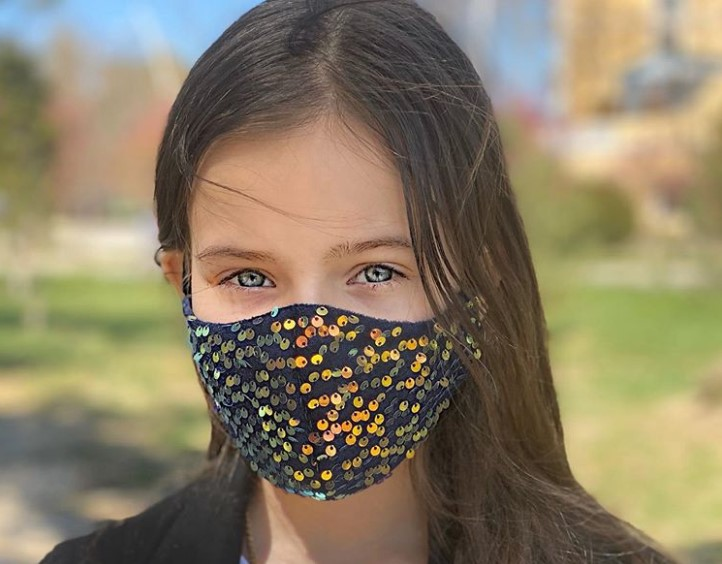face_with_mask: (152, 5, 511, 514)
